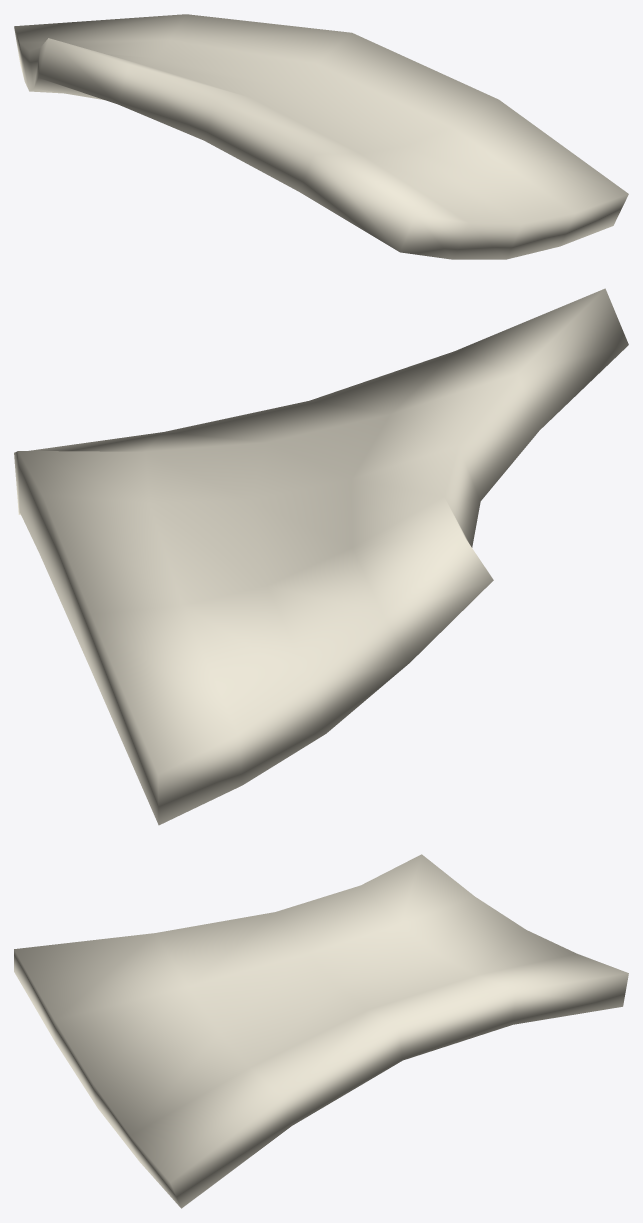
3 views of the same model, one above another, from view 1: azimuth 30°, elevation 25°; view 2: azimuth 150°, elevation 25°; view 3: azimuth 270°, elevation 25° (orthographic). The views are drawn at different scales.
Visible parts, largest first — view 1: ZA_84a25355bdd9e26c; view 2: ZA_84a25355bdd9e26c; view 3: ZA_84a25355bdd9e26c.
Boxes of the visible parts, <box> form: ZA_84a25355bdd9e26c: <box>14,14,628,259</box>; ZA_84a25355bdd9e26c: <box>14,288,628,825</box>; ZA_84a25355bdd9e26c: <box>14,854,628,1208</box>.
Size of the model in its own units: 0.00638 by 0.00259 by 0.00849.
